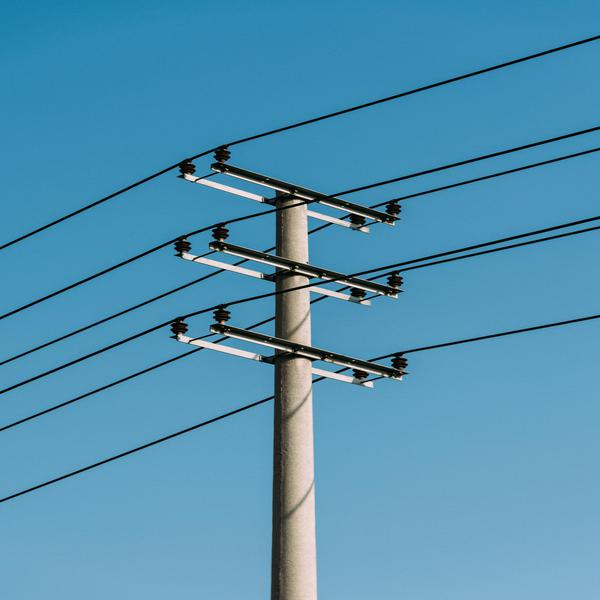utility_pole: (147, 125, 429, 467)
